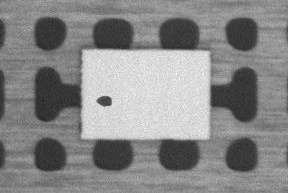DIE_INK: (140, 62, 170, 72)
